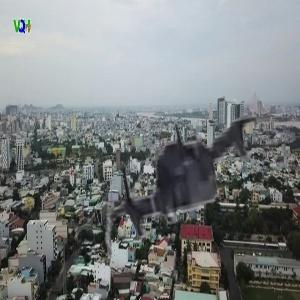drone: (84, 85, 288, 289)
